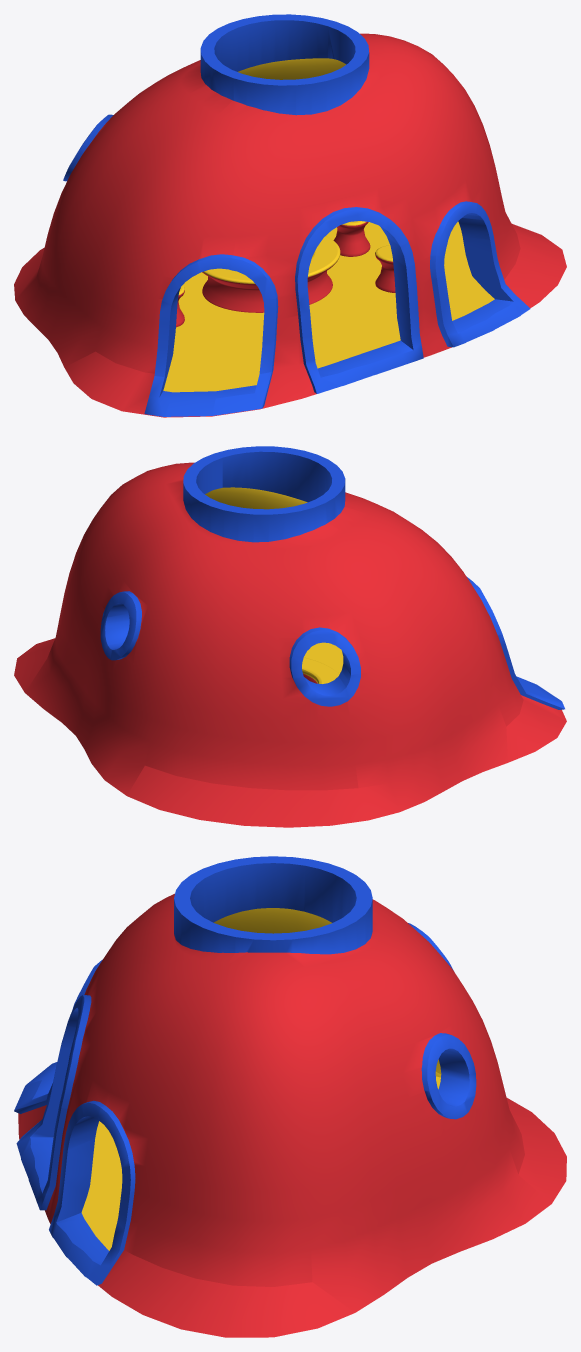
Rendered from adobe_03_three_roots.glb.
3 views of the same model, one above another, from view 1: azimuth 30°, elevation 25°; view 2: azimuth 150°, elevation 25°; view 3: azimuth 270°, elevation 25° (orthographic). The views are drawn at different scales.
Visible parts, largest first — view 1: 03 • Three Roots / Open Oculus, 03 • Circular counter with standing well, 03 • Clock seat 3, 03 • Clock seat 2; view 2: 03 • Three Roots / Open Oculus, 03 • Circular counter with standing well; view 3: 03 • Three Roots / Open Oculus.
Part boxes in pixels (x1=…): 03 • Three Roots / Open Oculus: x1=14, y1=14, x2=566, y2=417; 03 • Circular counter with standing well: x1=202, y1=236, x2=340, y2=312; 03 • Clock seat 3: x1=333, y1=221, x2=370, y2=256; 03 • Clock seat 2: x1=375, y1=245, x2=395, y2=292; 03 • Three Roots / Open Oculus: x1=14, y1=446, x2=566, y2=827; 03 • Circular counter with standing well: x1=302, y1=657, x2=339, y2=683; 03 • Three Roots / Open Oculus: x1=14, y1=856, x2=566, y2=1337.
Bounding box in the file's own units: 8.18 × 3.82 × 6.57.
